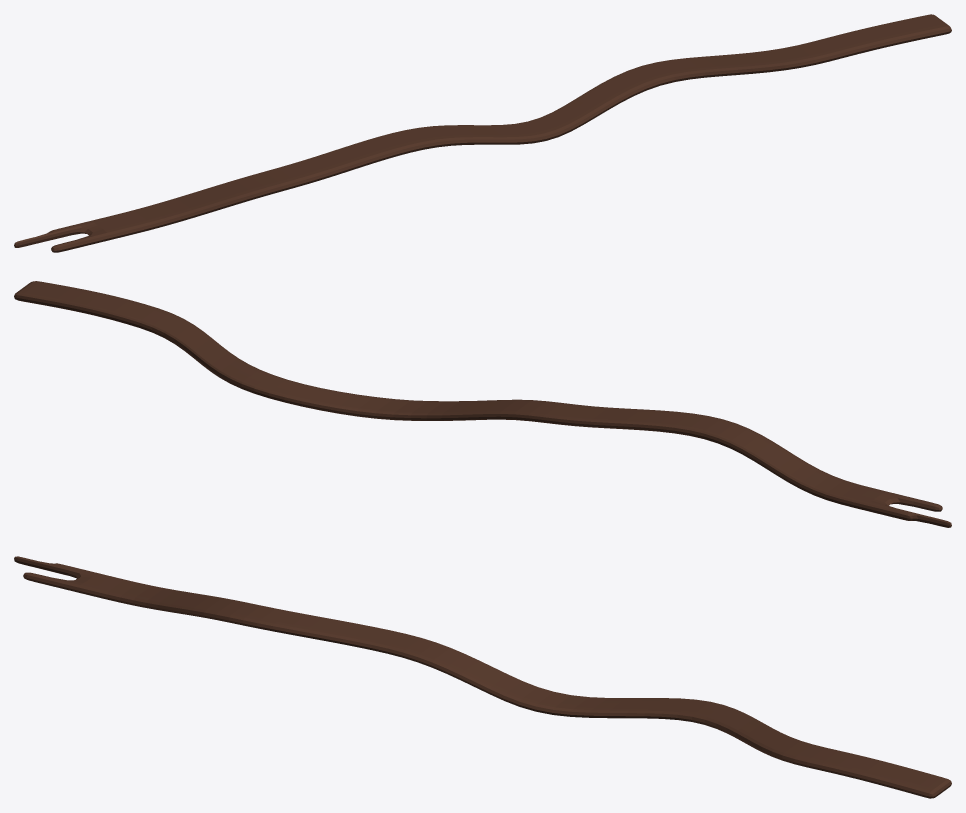
The model's file is log.fbx.
3 views of the same model, one above another, from view 1: azimuth 30°, elevation 25°; view 2: azimuth 150°, elevation 25°; view 3: azimuth 330°, elevation 25° (orthographic).
Parts seen in each view (by area): view 1: Cube.003; view 2: Cube.003; view 3: Cube.003.
Boxes of the visible parts, left/top/right/bottom form: Cube.003: left=14, top=14, right=951, bottom=252; Cube.003: left=14, top=281, right=951, bottom=527; Cube.003: left=14, top=556, right=951, bottom=798.
Bounding box in the file's own units: 4003 × 178 × 446.
